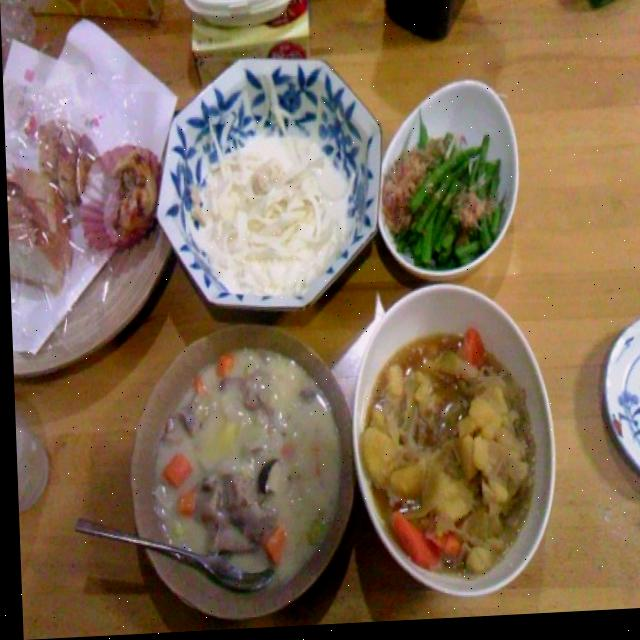汤锅炖物: (114, 317, 360, 633)
牛肉菜式: (336, 281, 568, 614)
